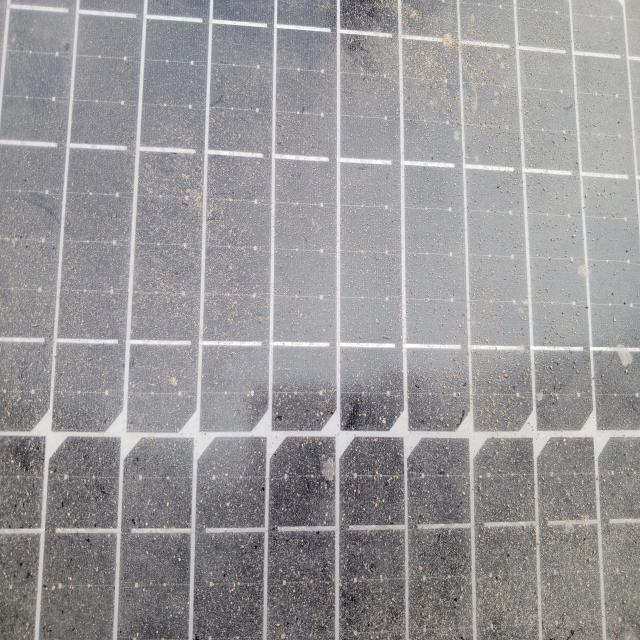Surface Contaminant: (14, 11, 629, 634)
